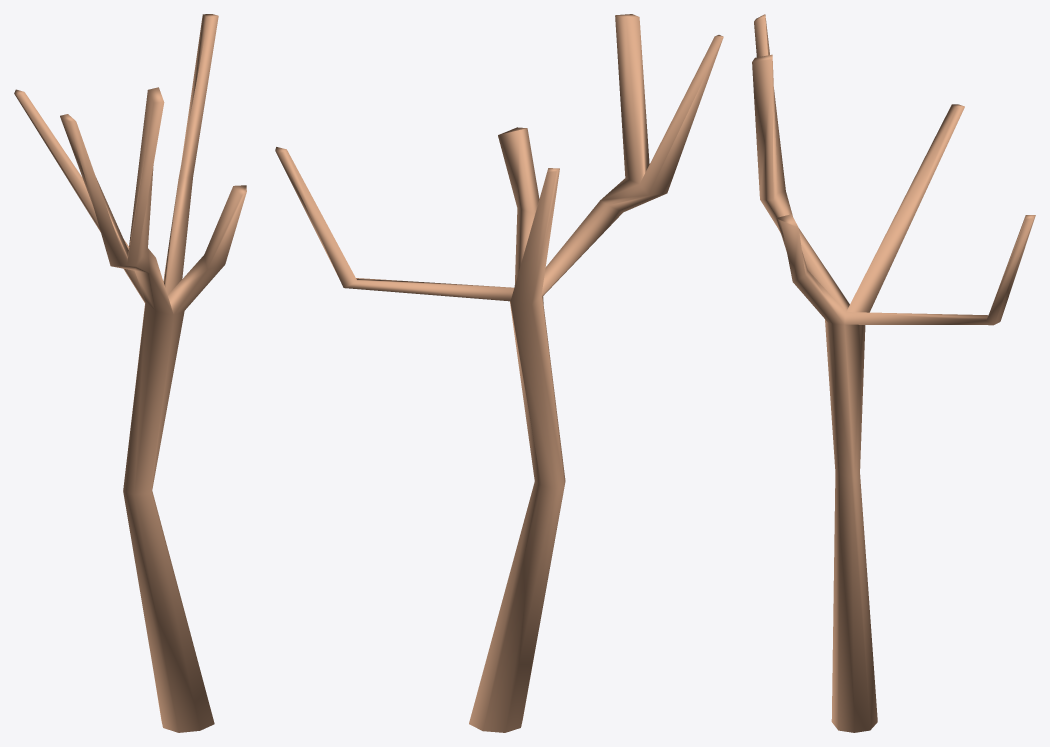
The model's file is tree_wol_02.fbx.
3 views of the same model, side by side, from view 1: azimuth 30°, elevation 25°; view 2: azimuth 150°, elevation 25°; view 3: azimuth 270°, elevation 25° (orthographic). The views are drawn at different scales.
Parts seen in each view (by area): view 1: bark; view 2: bark; view 3: bark.
Part boxes in pixels (bbox=[...]): bark: bbox=[14, 14, 246, 732]; bark: bbox=[275, 14, 723, 732]; bark: bbox=[752, 14, 1035, 732].
Size of the model in its own units: 285 by 620 by 253.
